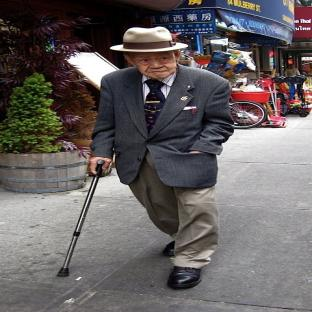Human: (90, 27, 233, 288)
